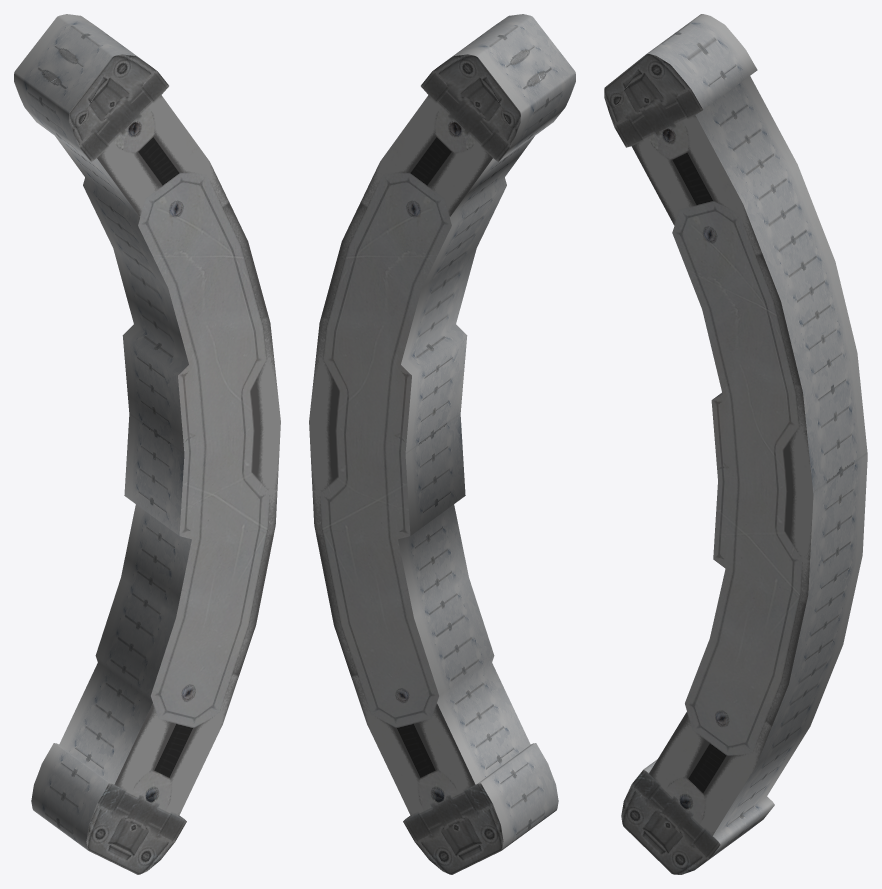
The model's file is SM_PillarS03cc.fbx.
3 views of the same model, side by side, from view 1: azimuth 30°, elevation 25°; view 2: azimuth 150°, elevation 25°; view 3: azimuth 330°, elevation 25° (orthographic).
Parts seen in each view (by area): view 1: SM_PillarS03cc_LOD0; view 2: SM_PillarS03cc_LOD0; view 3: SM_PillarS03cc_LOD0.
Part boxes in pixels (x1,y1,x2,y2): SM_PillarS03cc_LOD0: (14,14,280,874); SM_PillarS03cc_LOD0: (309,14,575,874); SM_PillarS03cc_LOD0: (604,14,867,874).
Bounding box in the file's own units: 91 × 41 × 339.
Materials: 2 (2 with a texture image).
